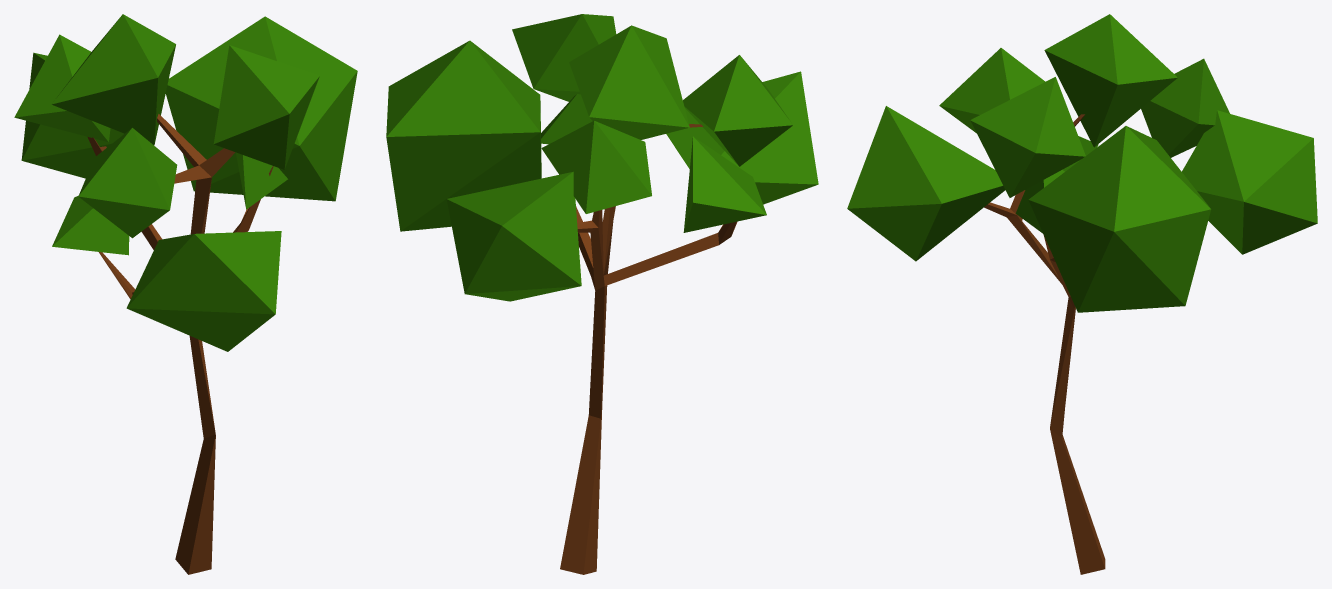
File: LowPolyTreeLod 1.fbx
The picture shows the model from 3 angles, left to right: view 1: azimuth 30°, elevation 25°; view 2: azimuth 150°, elevation 25°; view 3: azimuth 270°, elevation 25°; orthographic projection. The views are drawn at different scales.
Visible parts, largest first — view 1: Leaves, tree; view 2: Leaves, tree; view 3: Leaves, tree.
Part boxes in pixels (left/top/right/bottom): Leaves: left=14, top=14, right=357, bottom=351; tree: left=87, top=114, right=273, bottom=574; Leaves: left=386, top=14, right=818, bottom=301; tree: left=560, top=124, right=737, bottom=574; Leaves: left=847, top=14, right=1317, bottom=312; tree: left=984, top=114, right=1105, bottom=574.
Size of the model in its own units: 405 by 640 by 518.
